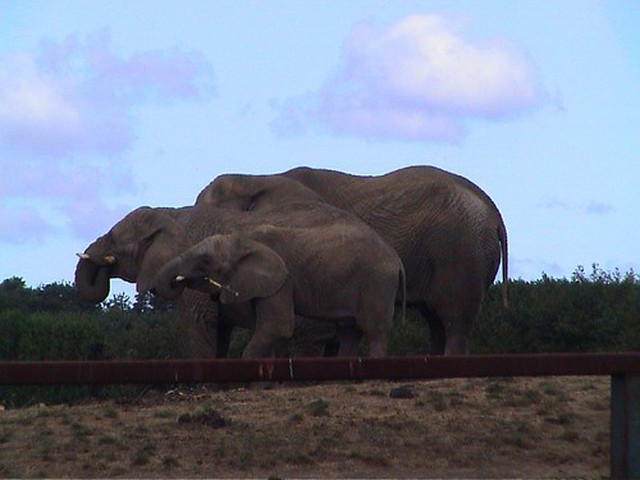Elephant: (74, 158, 529, 355)
